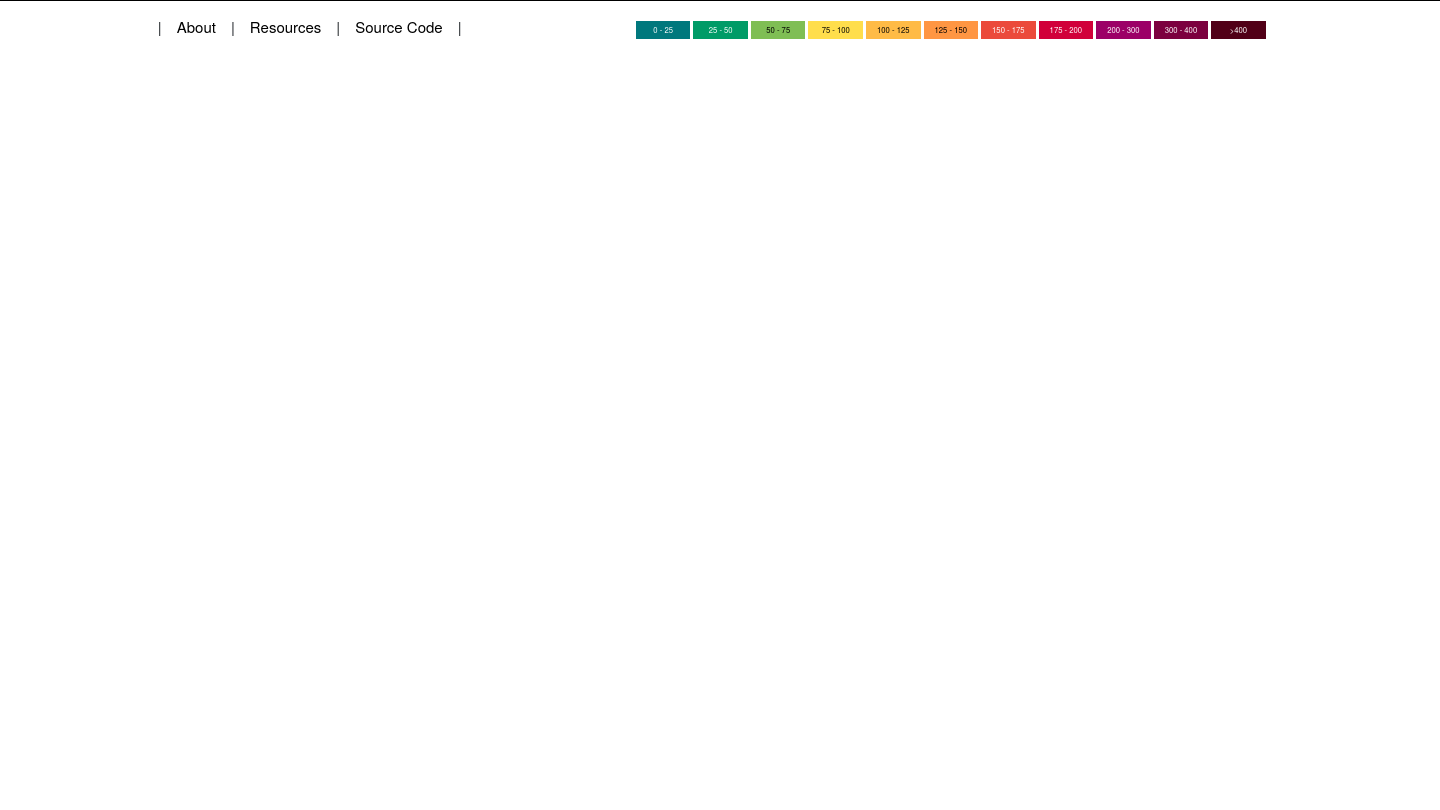
Test: Footer component › closes modal when close button in modal is clicked
// Get the first AQI level button and click it to open the modal
Click the button with test id "aqi-level" showing "0 - 25" at (663, 30), box [636,21,690,38]
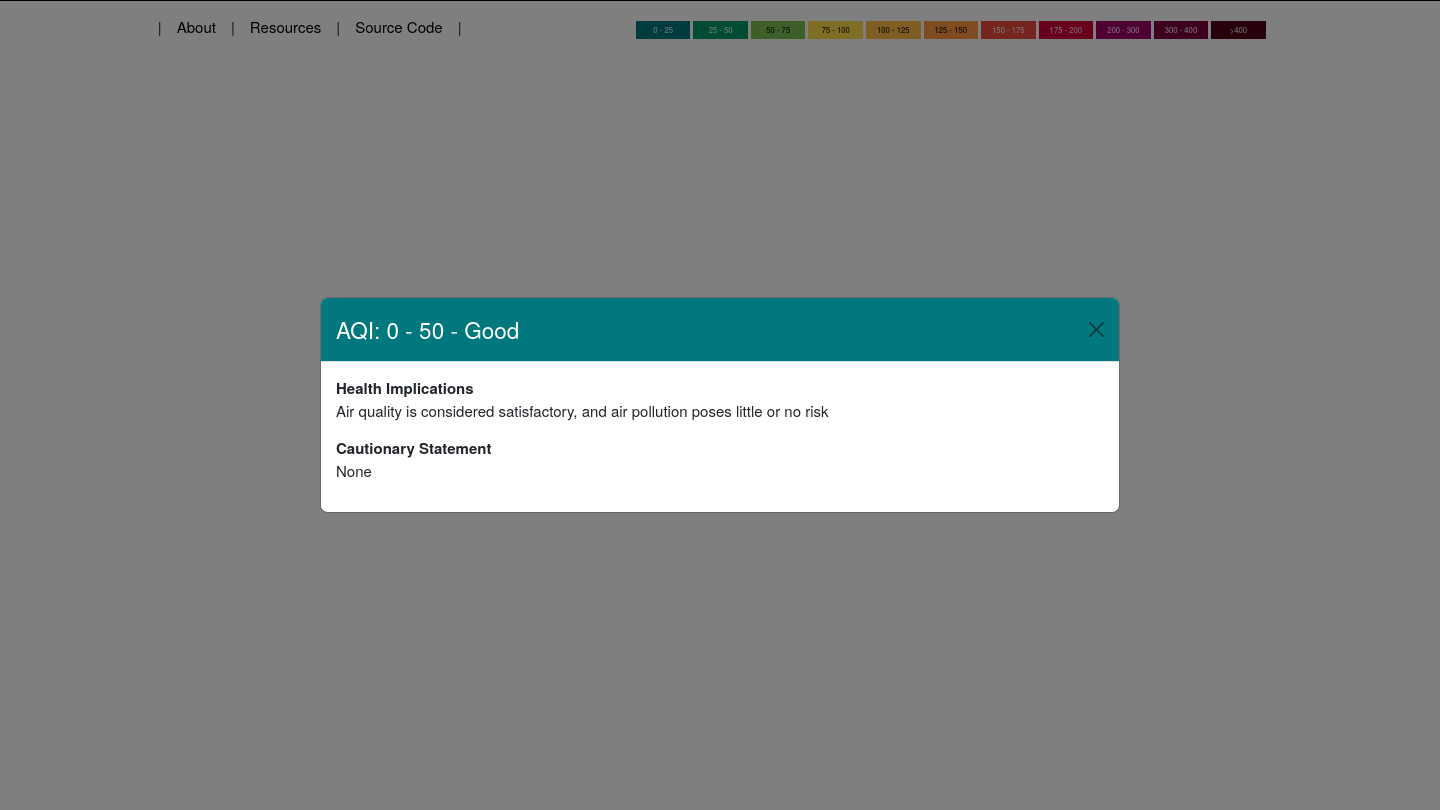
// Get the close button in the modal and click it
Click the button named "Close" at (1096, 330), box [1082,314,1112,344]
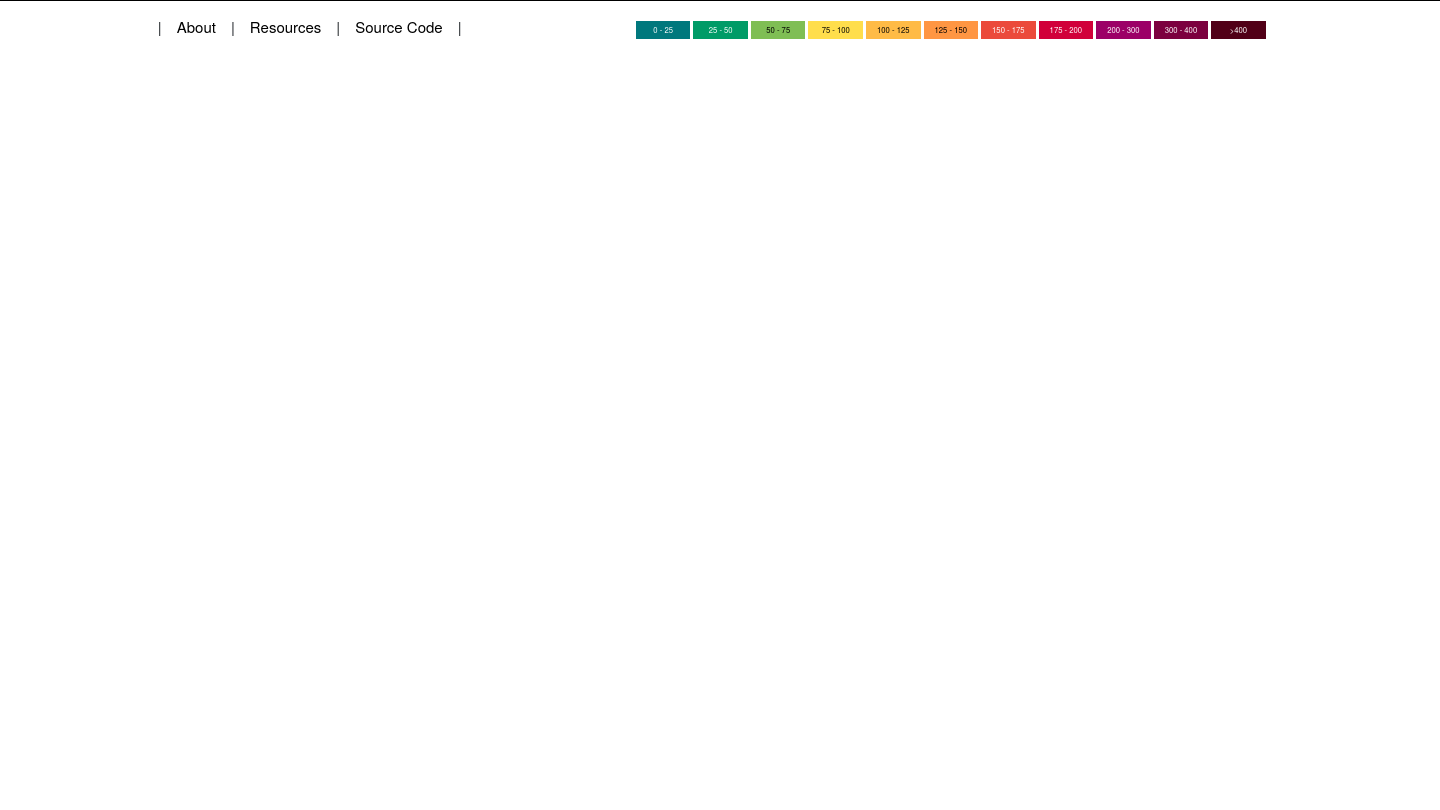
Check: the element with test id "popup" is gone
